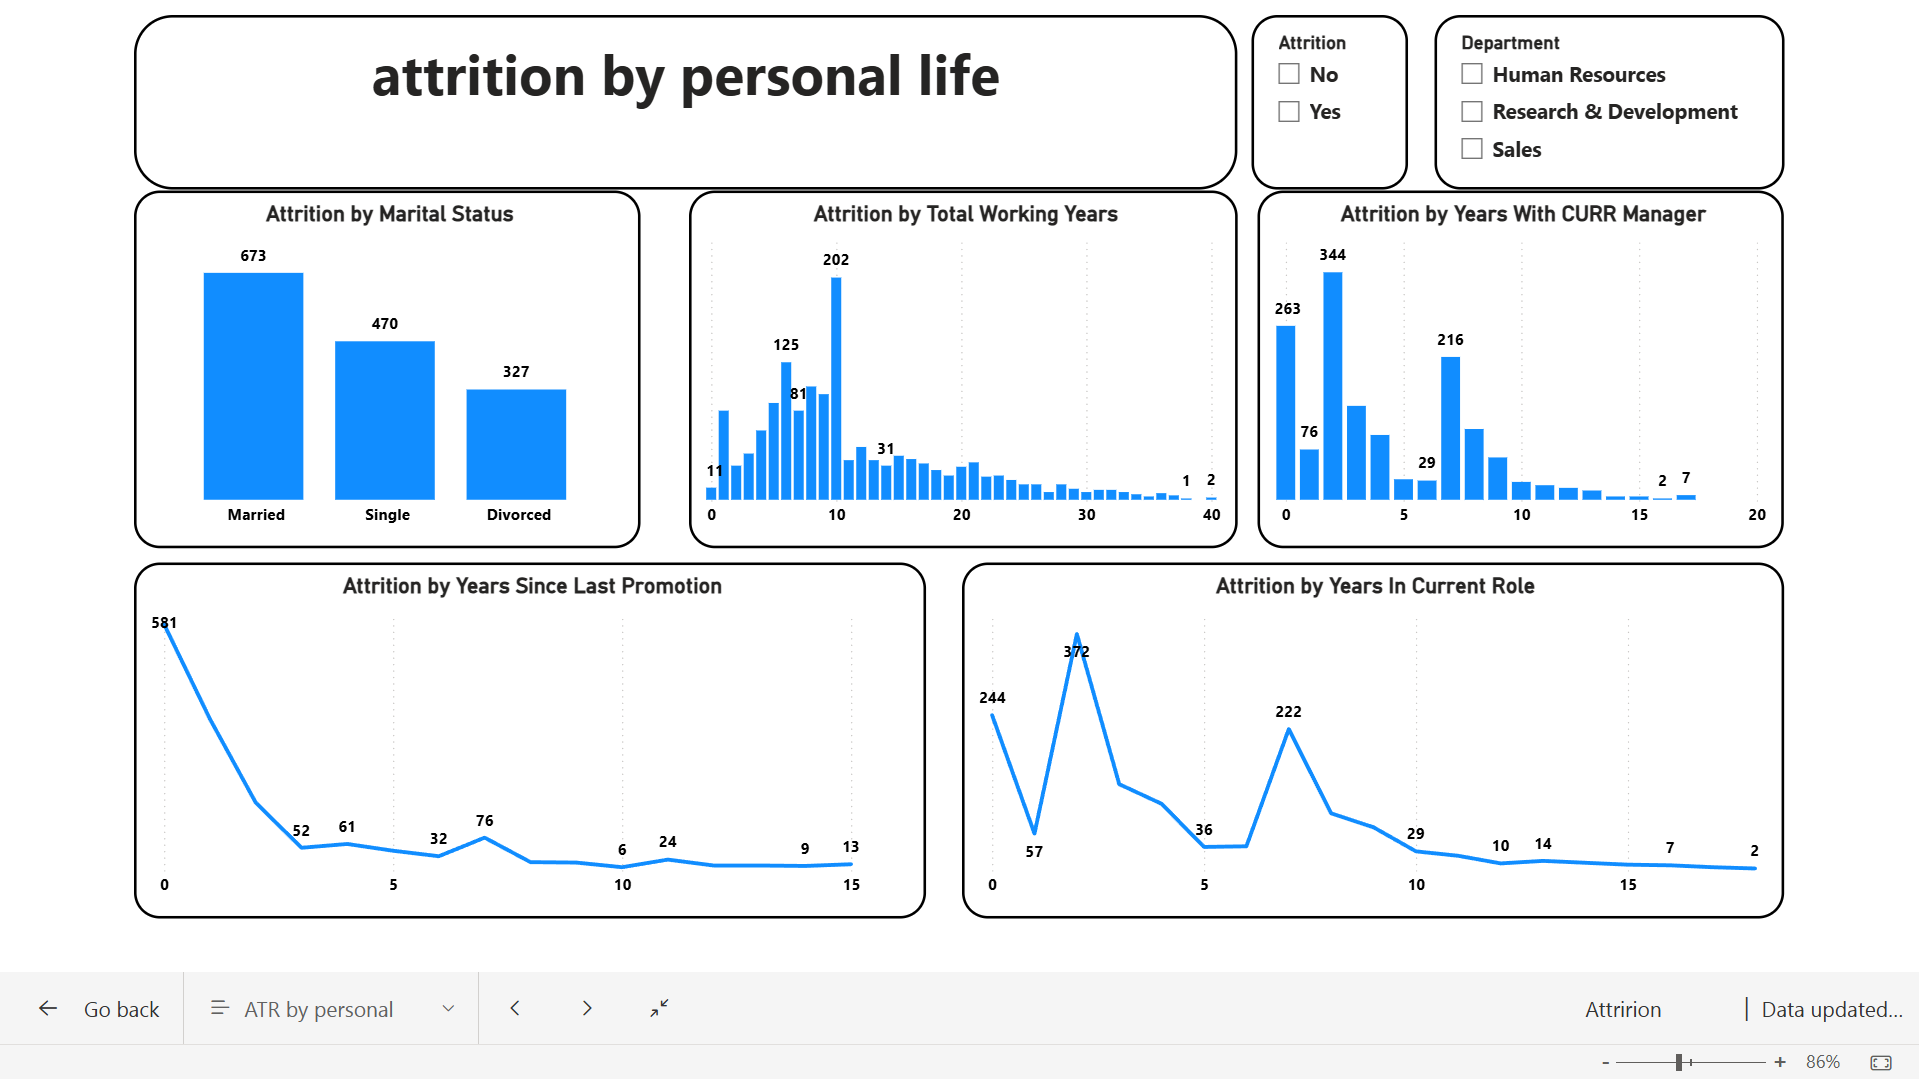

Layout of this report page (visuals, bound fields, positions):
{"tool":"powerbi","page":{"name":"ATR by personal","canvas":[1280,720],"ordinal":5},"visuals":[{"type":"textbox","box":[0,0,855.6,135.6],"z":0},{"type":"clusteredColumnChart","title":"Attrition by Total Working Years","fields":{"Category":["clean data.TotalWorkingYears"],"Y":["CountNonNull(clean data.Attrition)"]},"box":[430.1,135.6,425.5,277.4],"z":1000},{"type":"clusteredColumnChart","title":"Attrition by Marital Status","fields":{"Category":["clean data.MaritalStatus"],"Y":["CountNonNull(clean data.Attrition)"]},"box":[0,135.6,392.7,277.4],"z":2000},{"type":"clusteredColumnChart","title":"Attrition by Years With CURR Manager","fields":{"Y":["CountNonNull(clean data.Attrition)"],"Category":["clean data.YearsWithCurrManager"]},"box":[871.2,135.6,408.3,277.4],"z":3000},{"type":"lineChart","title":"Attrition by Years Since Last Promotion","fields":{"Category":["clean data.YearsSinceLastPromotion"],"Y":["CountNonNull(clean data.Attrition)"]},"box":[0,423.9,614,275.8],"z":4000},{"type":"lineChart","title":"Attrition by Years In Current Role","fields":{"Category":["clean data.YearsInCurrentRole"],"Y":["CountNonNull(clean data.Attrition)"]},"box":[642.1,423.9,637.4,275.8],"z":5000},{"type":"slicer","fields":{"Values":["clean data.Department"]},"box":[1008.3,0,271.2,135.6],"z":6000},{"type":"slicer","fields":{"Values":["clean data.Attrition"]},"box":[866.5,0,121.6,135.6],"z":7000}]}

Visuals, with their boxes on the page's 1280x720 design canvas (x1, y1, x2, y2). These are canvas units, not pixel positions in the 1919x1079 screenshot, which may show the page scaled, cropped or inside an application window:
textbox: bbox(0, 0, 856, 136)
"Attrition by Total Working Years" clusteredColumnChart: bbox(430, 136, 856, 413)
"Attrition by Marital Status" clusteredColumnChart: bbox(0, 136, 393, 413)
"Attrition by Years With CURR Manager" clusteredColumnChart: bbox(871, 136, 1280, 413)
"Attrition by Years Since Last Promotion" lineChart: bbox(0, 424, 614, 700)
"Attrition by Years In Current Role" lineChart: bbox(642, 424, 1280, 700)
slicer - clean data.Department: bbox(1008, 0, 1280, 136)
slicer - clean data.Attrition: bbox(866, 0, 988, 136)
